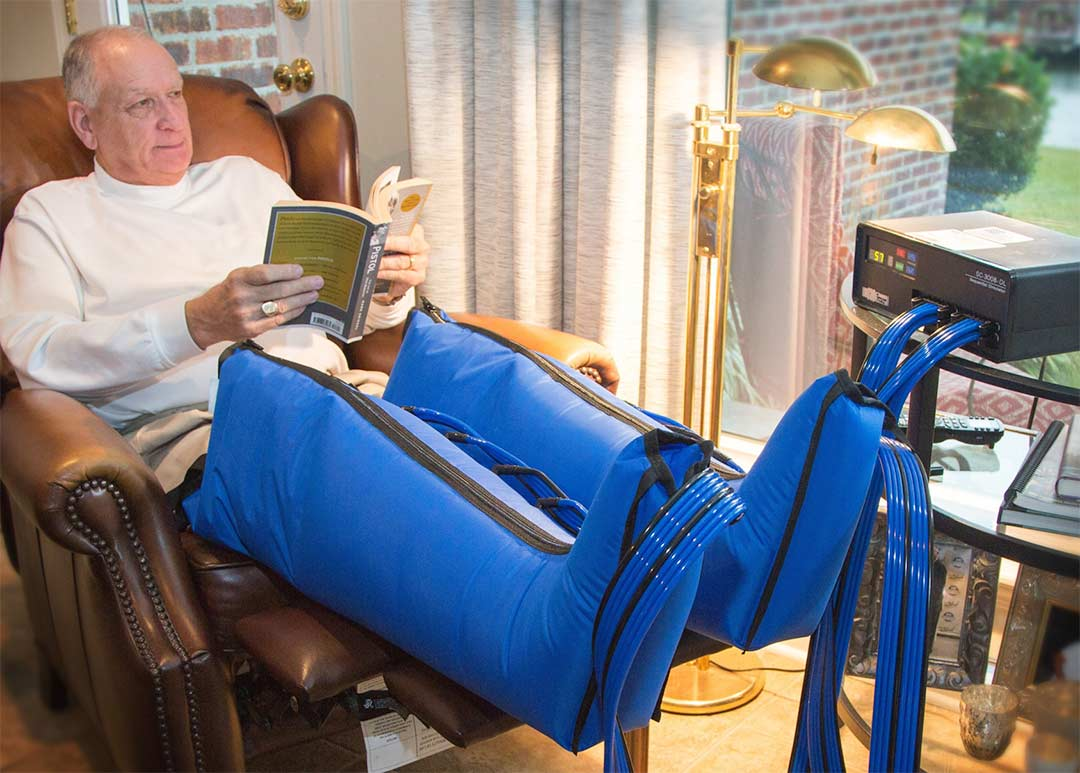patient: (1, 19, 450, 498)
sequential_compression: (196, 209, 1080, 771)
sofa: (1, 65, 644, 756)
table: (835, 258, 1078, 773)
